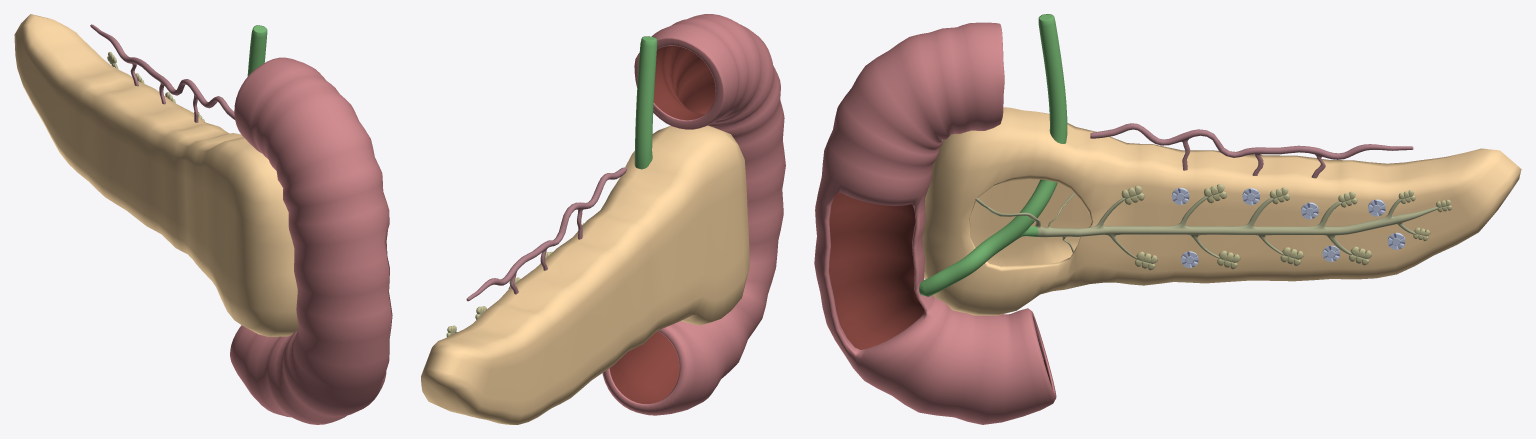
The model's file is pancreas.fbx.
3 renders of one model, left to right at view 1: azimuth 30°, elevation 25°; view 2: azimuth 150°, elevation 25°; view 3: azimuth 270°, elevation 25°, orthographic. The views are drawn at different scales.
Parts seen in each view (by area): view 1: pancreas, duodenum, blood_vessel, pancreatic_duct; view 2: pancreas, duodenum, pancreatic_duct, blood_vessel; view 3: pancreas, duodenum, pancreatic_duct, blood_vessel.
Boxes of the visible parts, left/top/right/bottom form: pancreas: left=14, top=14, right=298, bottom=336; duodenum: left=230, top=57, right=392, bottom=424; blood_vessel: left=90, top=24, right=234, bottom=122; pancreatic_duct: left=113, top=25, right=267, bottom=76; pancreas: left=421, top=125, right=749, bottom=424; duodenum: left=602, top=14, right=785, bottom=415; pancreatic_duct: left=455, top=36, right=657, bottom=332; blood_vessel: left=466, top=167, right=626, bottom=301; pancreas: left=922, top=107, right=1521, bottom=315; duodenum: left=814, top=22, right=1056, bottom=424; pancreatic_duct: left=919, top=14, right=1438, bottom=296; blood_vessel: left=1090, top=123, right=1413, bottom=178.
Size of the model in its own units: 7.55 by 25 by 40.16.
